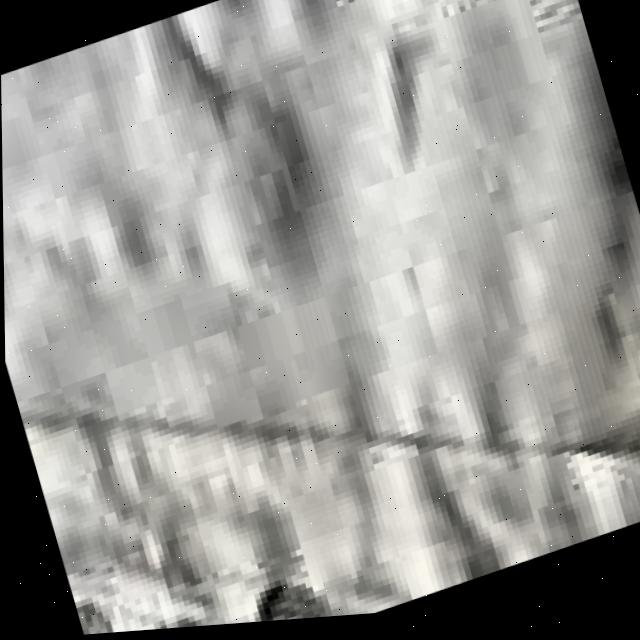paper: (1, 0, 640, 635)
